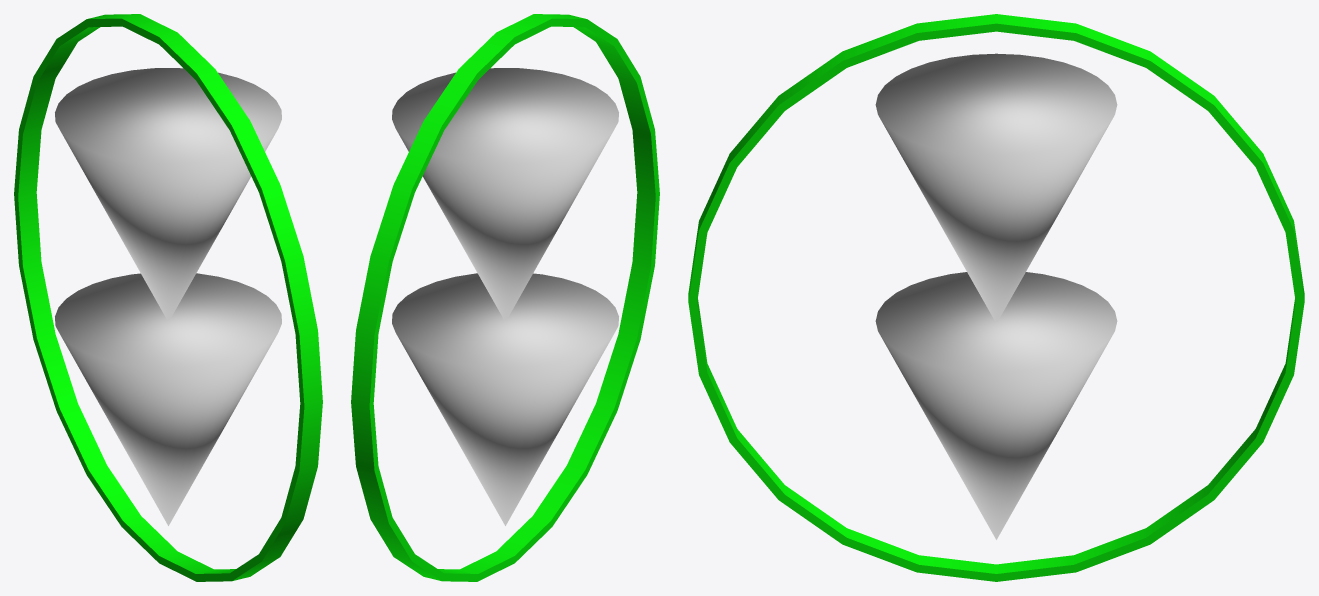
Rendered from checkpoint.fbx.
3 views of the same model, side by side, from view 1: azimuth 30°, elevation 25°; view 2: azimuth 150°, elevation 25°; view 3: azimuth 270°, elevation 25° (orthographic). The views are drawn at different scales.
Parts seen in each view (by area): view 1: Cone, ring1; view 2: Cone, ring1; view 3: Cone, ring1.
Part boxes in pixels (box(x1,y1,x2,y2)): Cone: box(55, 68, 281, 525); ring1: box(14, 14, 322, 581); Cone: box(392, 68, 618, 525); ring1: box(351, 14, 659, 581); Cone: box(875, 53, 1117, 539); ring1: box(688, 14, 1304, 581).
Bounding box in the file's own units: 420 × 1069 × 1069.
